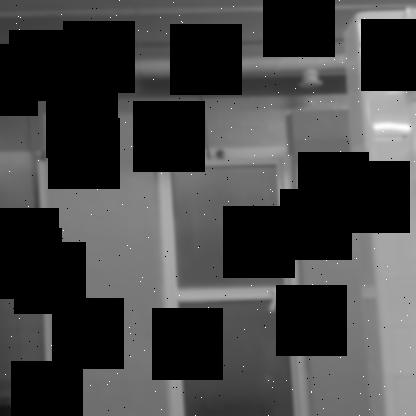Porte: (158, 154, 308, 416)
